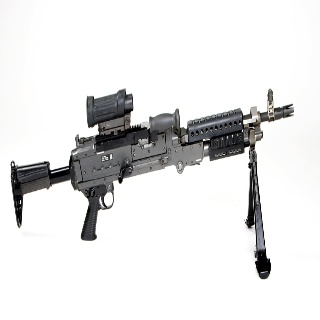rifle: (8, 85, 299, 284)
